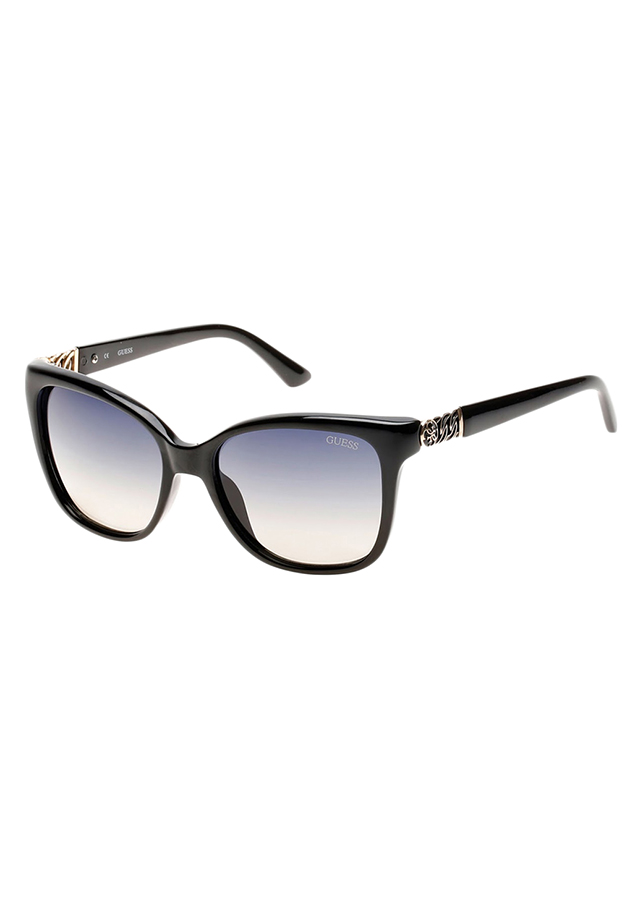Guess: (320, 425, 364, 457), (112, 345, 143, 358)
